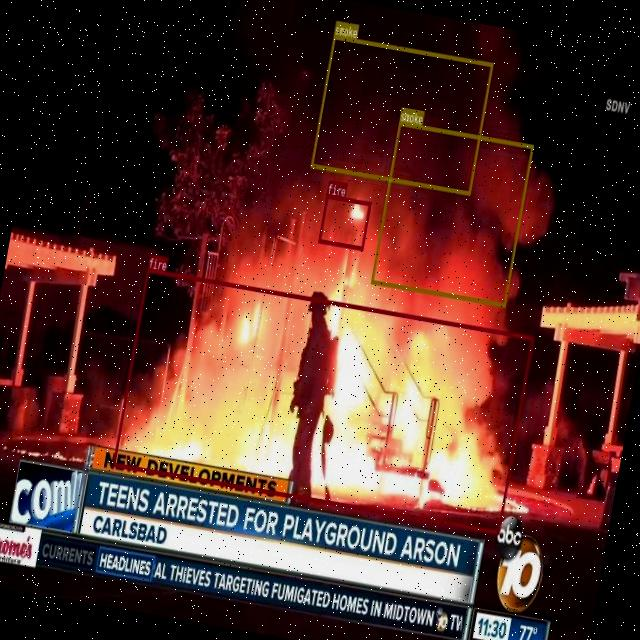fire: (111, 268, 534, 532), (317, 193, 371, 249)
smoke: (370, 120, 533, 306), (310, 34, 493, 195)
